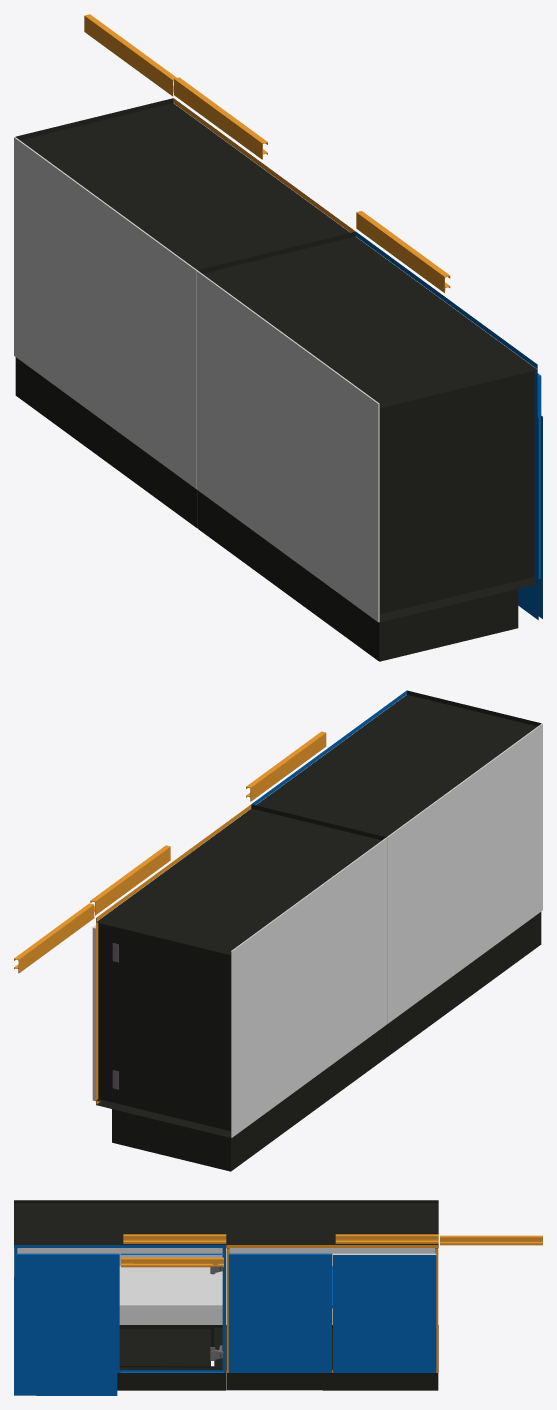
File: cabinet1agood.glb
The picture shows the model from 3 angles, top to bottom: view 1: azimuth 30°, elevation 25°; view 2: azimuth 150°, elevation 25°; view 3: azimuth 270°, elevation 25°; orthographic projection. The views are drawn at different scales.
Visible parts, largest first — view 1: BODY.001, BACK.001, BACK, BODY, BASE.001, BASE, PULLER.002, PULLER, PULLER.001, EDGE TAPE.001, DOOR.003, EDGE TAPE; view 2: BODY, BACK, BACK.001, BODY.001, BASE, BASE.001, PULLER.001, PULLER.002, PULLER, EDGE TAPE, EDGE TAPE.001, EDGE TAPE DOOR.001; view 3: BODY.001, DOOR, DOOR.001, DOOR.002, BODY, Cubo.001, BASE, BACK.001, DOOR.003, BASE.001, BACK, EDGE TAPE (+6 smaller).
Part boxes in pixels (x1,y1,x2,y2): BODY.001: (198,231,537,622); BACK.001: (196,270,379,622); BACK: (14,137,196,488); BODY: (15,98,350,269); BASE.001: (198,490,518,661); BASE: (15,357,197,528); PULLER.002: (356,211,450,292); PULLER: (174,77,267,159); PULLER.001: (84,14,176,96); EDGE TAPE.001: (355,231,537,583); DOOR.003: (518,415,542,620); EDGE TAPE: (173,98,355,232); BODY: (96,804,385,1137); BACK: (231,837,387,1137); BACK.001: (386,723,542,1023); BODY.001: (256,690,541,837); BASE: (112,1025,385,1171); BASE.001: (386,912,541,1057); PULLER.001: (14,903,94,973); PULLER.002: (246,731,326,801); PULLER: (90,845,170,915); EDGE TAPE: (96,804,251,1104); EDGE TAPE.001: (252,690,406,805); EDGE TAPE DOOR.001: (92,925,95,1101); BODY.001: (14,1200,226,1372); DOOR: (228,1255,331,1372); DOOR.001: (333,1255,436,1372); DOOR.002: (16,1255,119,1372); BODY: (226,1200,438,1372); Cubo.001: (119,1266,222,1308); BASE: (226,1328,438,1390); BACK.001: (14,1200,225,1324); DOOR.003: (14,1276,117,1395); BASE.001: (117,1328,225,1390); BACK: (226,1200,437,1324); EDGE TAPE: (226,1245,438,1372).
Bounding box in the file's own units: 0.5263 × 0.8422 × 2.5.
